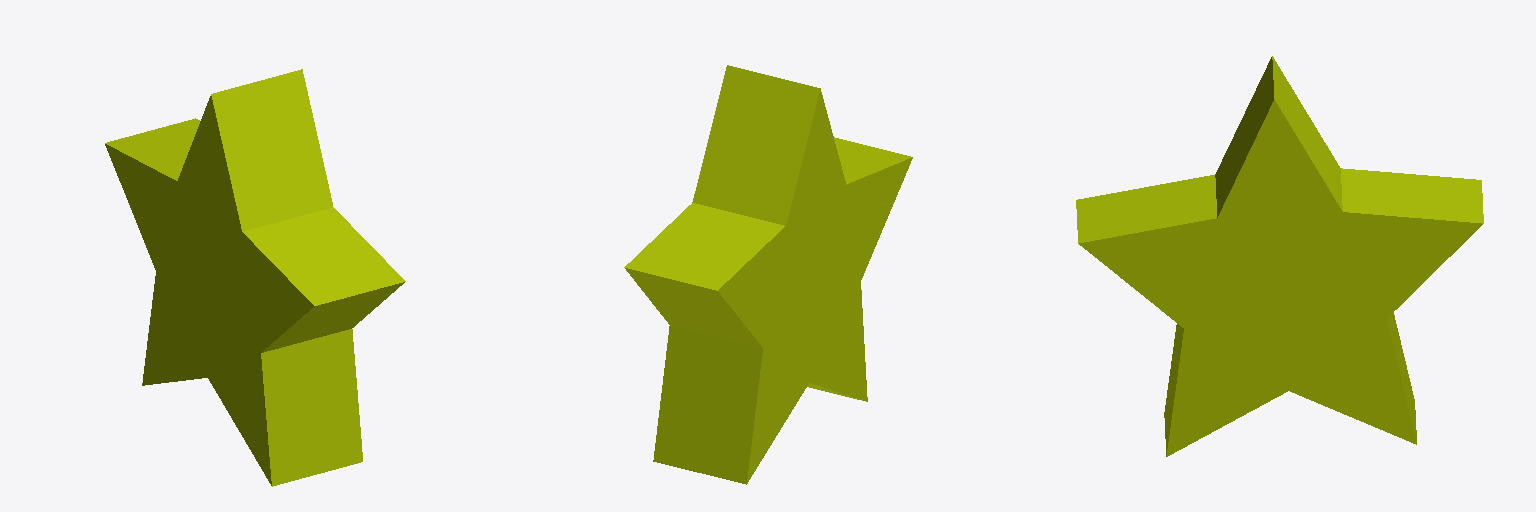
The model's file is star_yellow.obj.
The picture shows the model from 3 angles: view 1: azimuth 30°, elevation 25°; view 2: azimuth 150°, elevation 25°; view 3: azimuth 270°, elevation 25°; orthographic projection.
Parts seen in each view (by area): view 1: Star; view 2: Star; view 3: Star.
Boxes of the visible parts, x1=… form: Star: x1=105, y1=69, x2=405, y2=486; Star: x1=624, y1=65, x2=912, y2=484; Star: x1=1076, y1=56, x2=1483, y2=456.
Bounding box in the file's own units: 0.58 × 1.95 × 2.03.